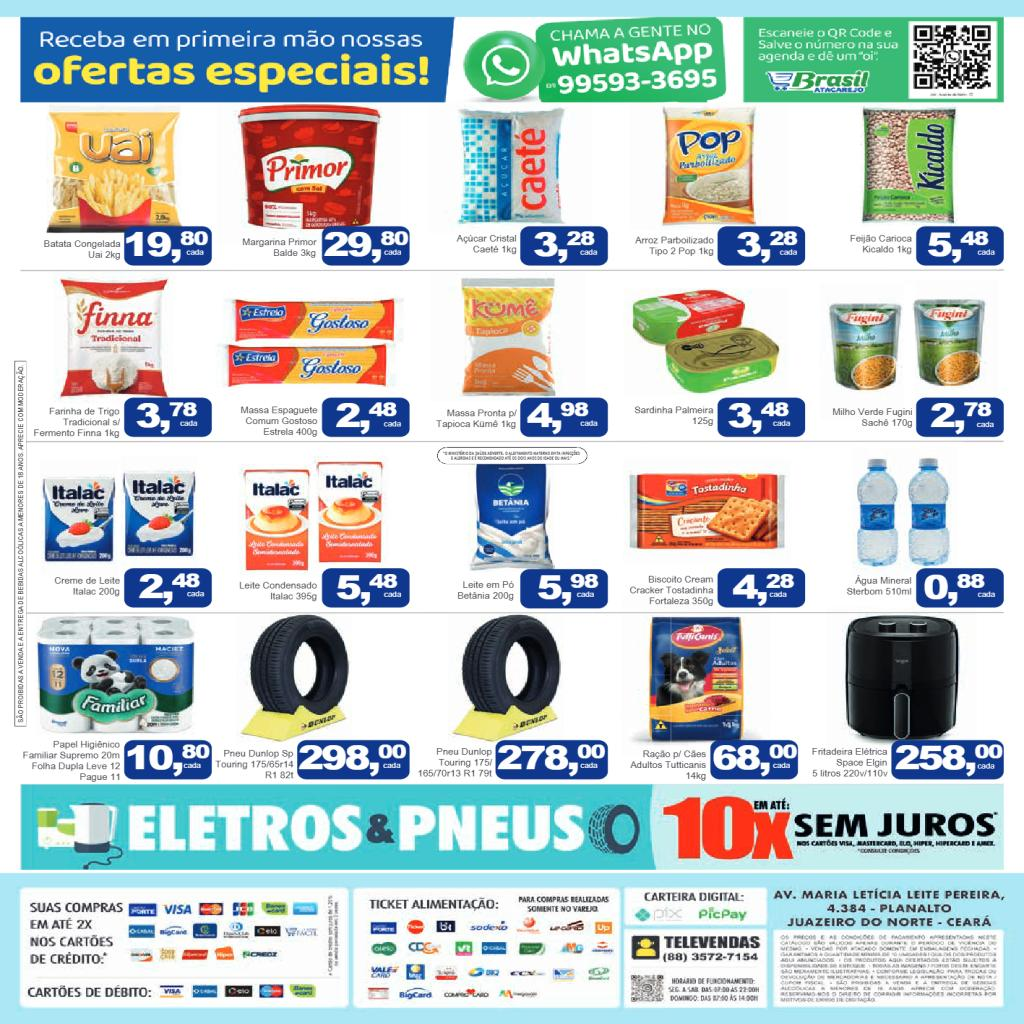price: (298, 742, 409, 780), (496, 742, 607, 778), (893, 742, 1003, 778), (712, 742, 798, 778), (124, 229, 209, 265), (323, 230, 410, 265), (125, 742, 210, 776), (528, 228, 605, 265), (333, 572, 407, 608), (924, 571, 998, 607), (526, 401, 601, 436), (926, 229, 998, 265), (334, 400, 406, 435), (536, 571, 604, 608), (133, 401, 203, 436), (134, 572, 206, 606), (928, 401, 996, 436), (726, 402, 794, 436), (735, 230, 801, 264), (731, 572, 796, 606)
product_text: (20, 739, 122, 782), (625, 570, 715, 608), (30, 404, 122, 440), (237, 404, 319, 439), (214, 747, 295, 781), (628, 748, 708, 782), (808, 746, 888, 779), (415, 745, 493, 778), (234, 577, 318, 605), (40, 236, 122, 264), (631, 232, 715, 259), (831, 405, 914, 432), (432, 406, 518, 432), (240, 234, 318, 261), (632, 403, 716, 427), (450, 575, 516, 605), (49, 574, 121, 600), (844, 571, 913, 598), (454, 232, 518, 257), (848, 232, 914, 256)
